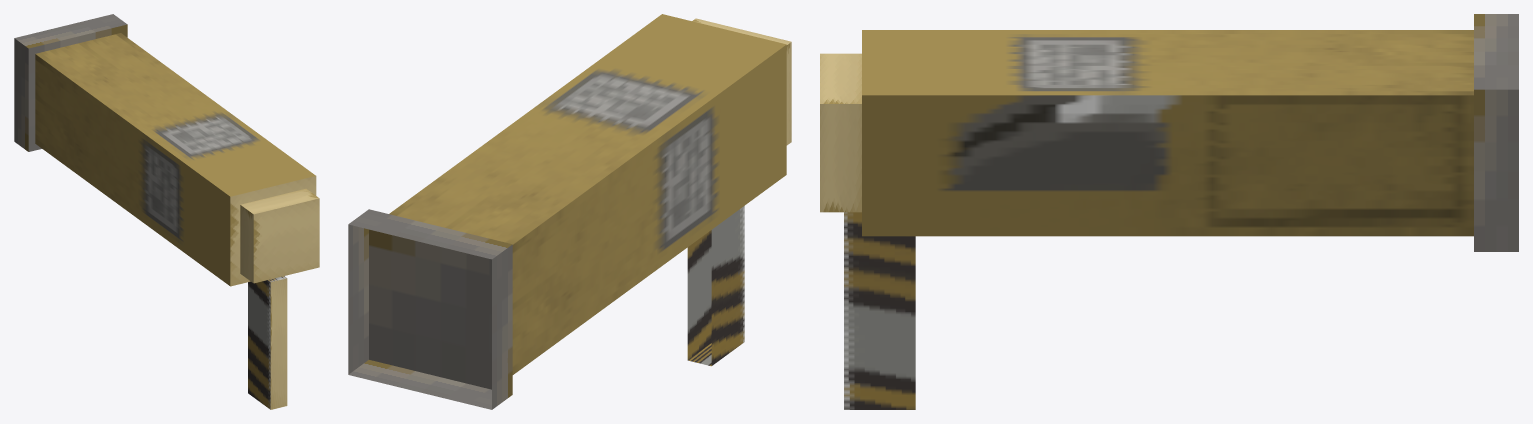
Rendered from pz_native_street_decoration_01_56.obj.
3 renders of one model, left to right at view 1: azimuth 30°, elevation 25°; view 2: azimuth 150°, elevation 25°; view 3: azimuth 270°, elevation 25°, orthographic. The views are drawn at different scales.
Parts seen in each view (by area): view 1: pz_native_street_decoration_01_56; view 2: pz_native_street_decoration_01_56; view 3: pz_native_street_decoration_01_56.
Part boxes in pixels (x1,y1,x2,y2): pz_native_street_decoration_01_56: (14,14,319,409); pz_native_street_decoration_01_56: (348,14,791,409); pz_native_street_decoration_01_56: (820,14,1518,409).
Bounding box in the file's own units: 0.3 × 0.65 × 1.17.
Materials: 1 (1 with a texture image).
